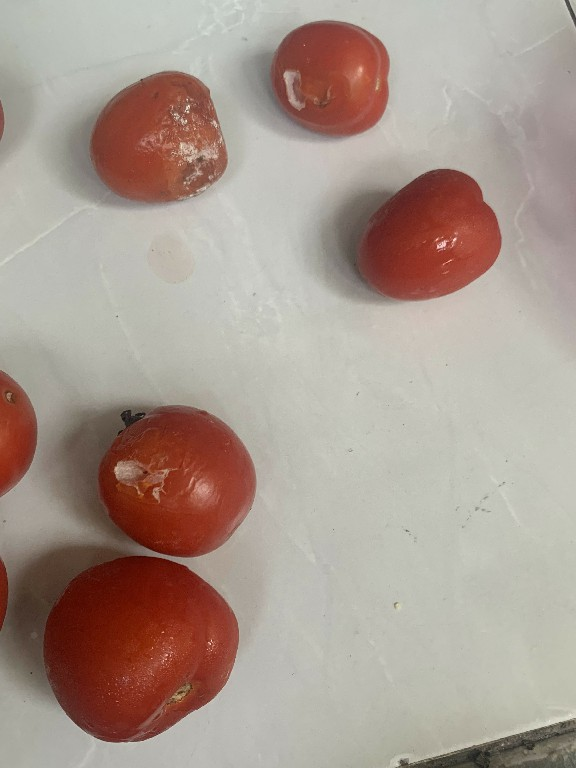NG: (88, 395, 271, 573), (74, 57, 236, 212), (256, 7, 394, 144)
OK: (36, 545, 256, 751), (346, 159, 507, 307)
